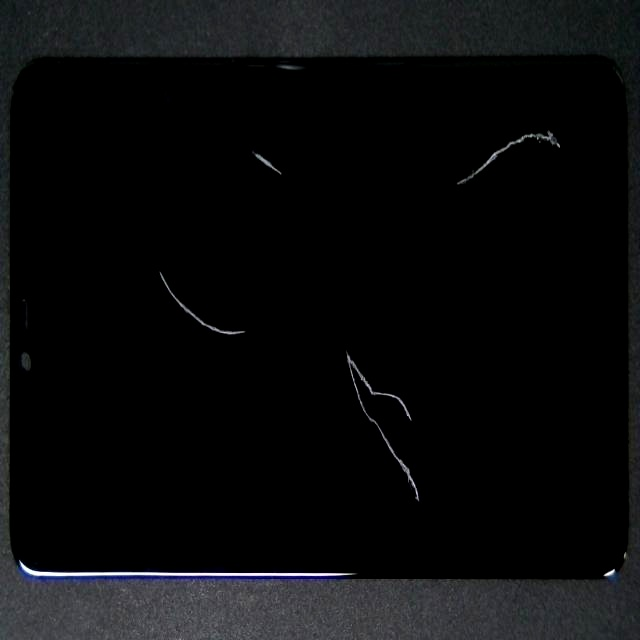scratch: (261, 262, 613, 588), (127, 112, 433, 280), (195, 196, 347, 452), (312, 86, 640, 195)
